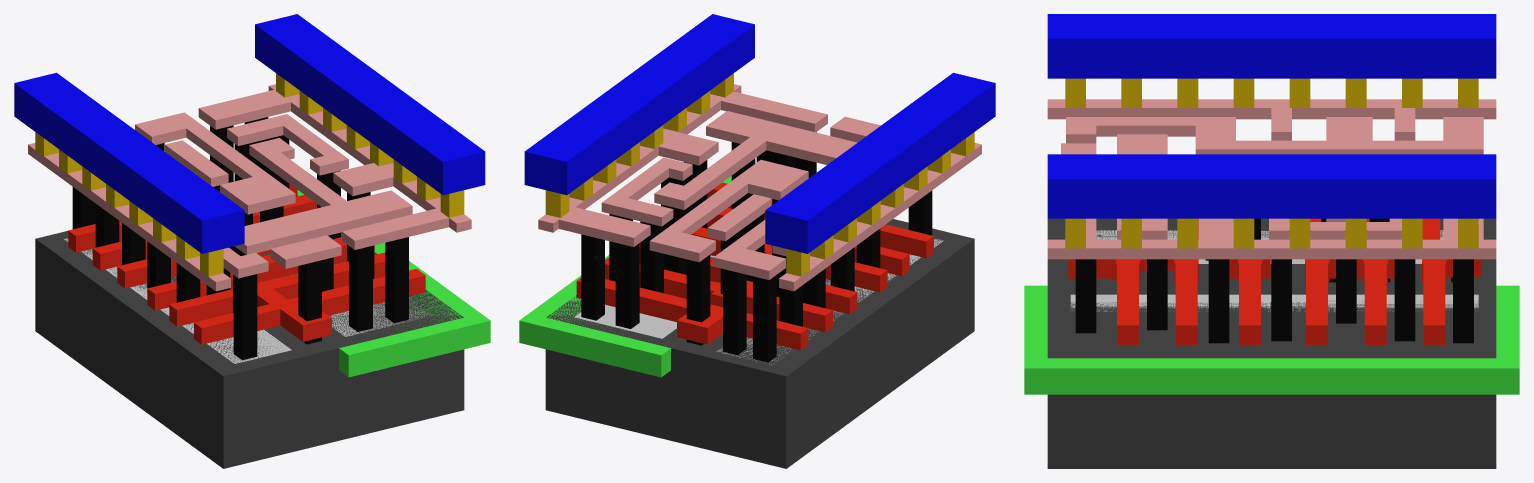
Rendered from sky130_fd_sc_hdll__o21ai_2.obj.
3 views of the same model, side by side, from view 1: azimuth 30°, elevation 25°; view 2: azimuth 150°, elevation 25°; view 3: azimuth 270°, elevation 25° (orthographic). The views are drawn at different scales.
Visible parts, largest first — view 1: subs, metal1, li, licon, poly, nwell, mcon, diff, tap; view 2: subs, metal1, li, licon, poly, nwell, mcon, tap, diff; view 3: metal1, subs, li, nwell, poly, licon, mcon, tap, diff.
Part boxes in pixels (left/top/right/bottom): subs: left=35, top=231, right=464, bottom=468; metal1: left=14, top=14, right=485, bottom=253; li: left=28, top=84, right=471, bottom=291; licon: left=72, top=117, right=408, bottom=360; poly: left=68, top=184, right=425, bottom=344; nwell: left=233, top=180, right=490, bottom=377; mcon: left=35, top=73, right=464, bottom=276; diff: left=64, top=238, right=291, bottom=363; tap: left=287, top=264, right=430, bottom=336; subs: left=545, top=219, right=974, bottom=468; metal1: left=524, top=14, right=995, bottom=253; li: left=538, top=84, right=981, bottom=291; licon: left=581, top=132, right=932, bottom=362; poly: left=576, top=182, right=933, bottom=350; nwell: left=519, top=176, right=731, bottom=377; mcon: left=545, top=73, right=974, bottom=276; tap: left=574, top=255, right=714, bottom=338; diff: left=717, top=239, right=943, bottom=364; metal1: left=1047, top=14, right=1496, bottom=218; subs: left=1047, top=218, right=1496, bottom=468; li: left=1047, top=99, right=1496, bottom=259; nwell: left=1024, top=285, right=1519, bottom=394; poly: left=1068, top=218, right=1481, bottom=345; licon: left=1075, top=218, right=1473, bottom=343; mcon: left=1065, top=78, right=1478, bottom=248; tap: left=1070, top=294, right=1478, bottom=311; diff: left=1096, top=230, right=1443, bottom=263.
Bounding box in the file's own units: 3.2 × 2.74 × 4.06.
